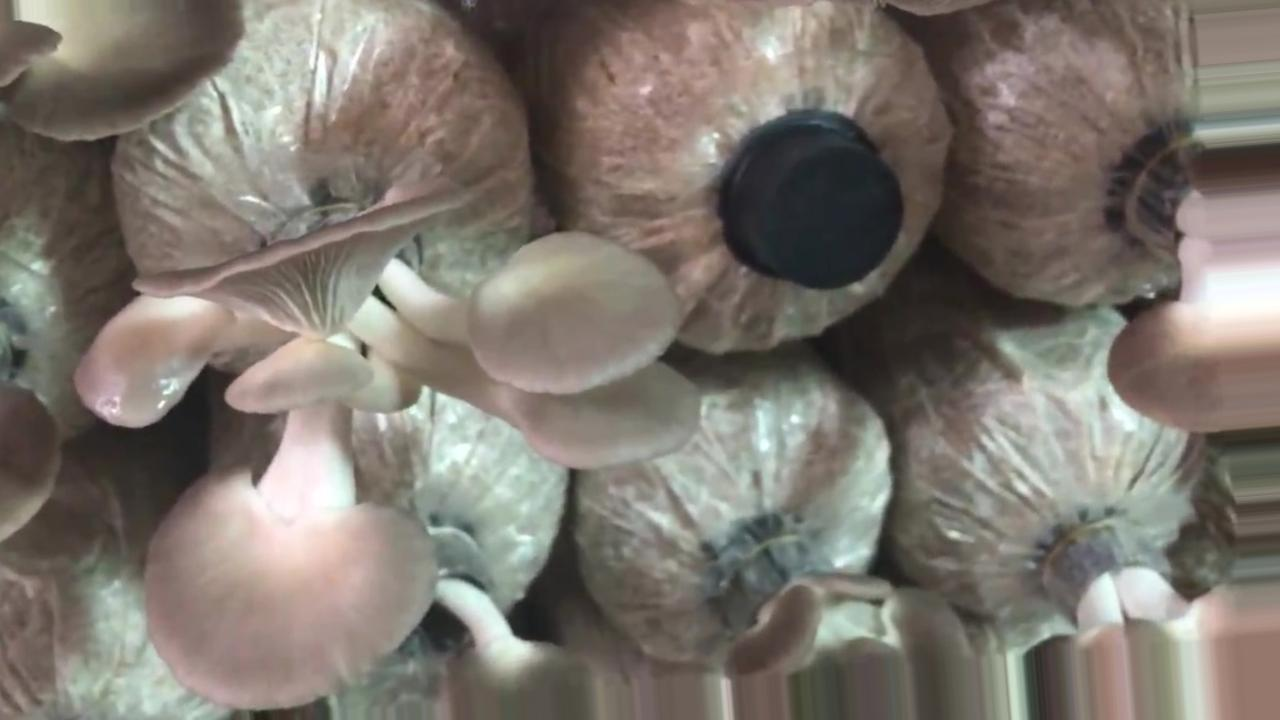nam: (74, 157, 710, 713), (1103, 134, 1280, 435), (1, 1, 250, 148)
